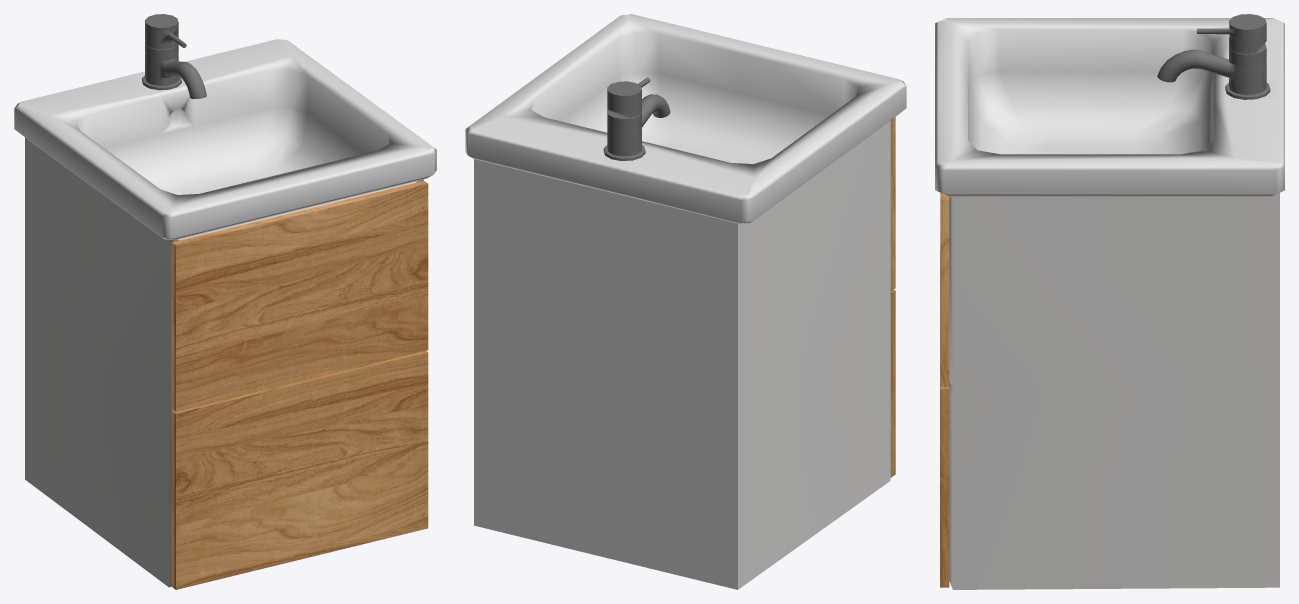
The model's file is EnhetFinal2.fbx.
The picture shows the model from 3 angles, left to right: view 1: azimuth 30°, elevation 25°; view 2: azimuth 150°, elevation 25°; view 3: azimuth 270°, elevation 25°; orthographic projection. The views are drawn at different scales.
Visible parts, largest first — view 1: MuebleLavabo; view 2: MuebleLavabo; view 3: MuebleLavabo.
Boxes of the visible parts, x1,y1,x2,y2 form: MuebleLavabo: (14, 14, 436, 589); MuebleLavabo: (465, 14, 906, 589); MuebleLavabo: (935, 14, 1284, 589).
Bounding box in the file's own units: 49.7 × 76.2 × 48.7.
5 materials, 1 textured.
